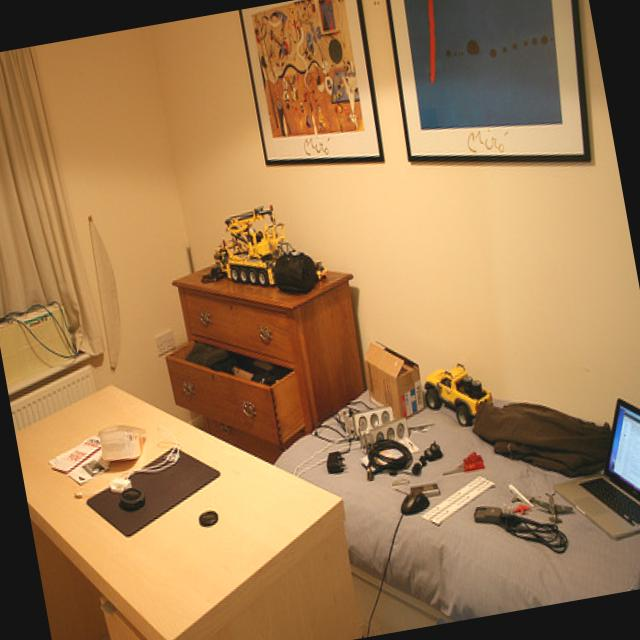Vehicle: (418, 358, 497, 434)
